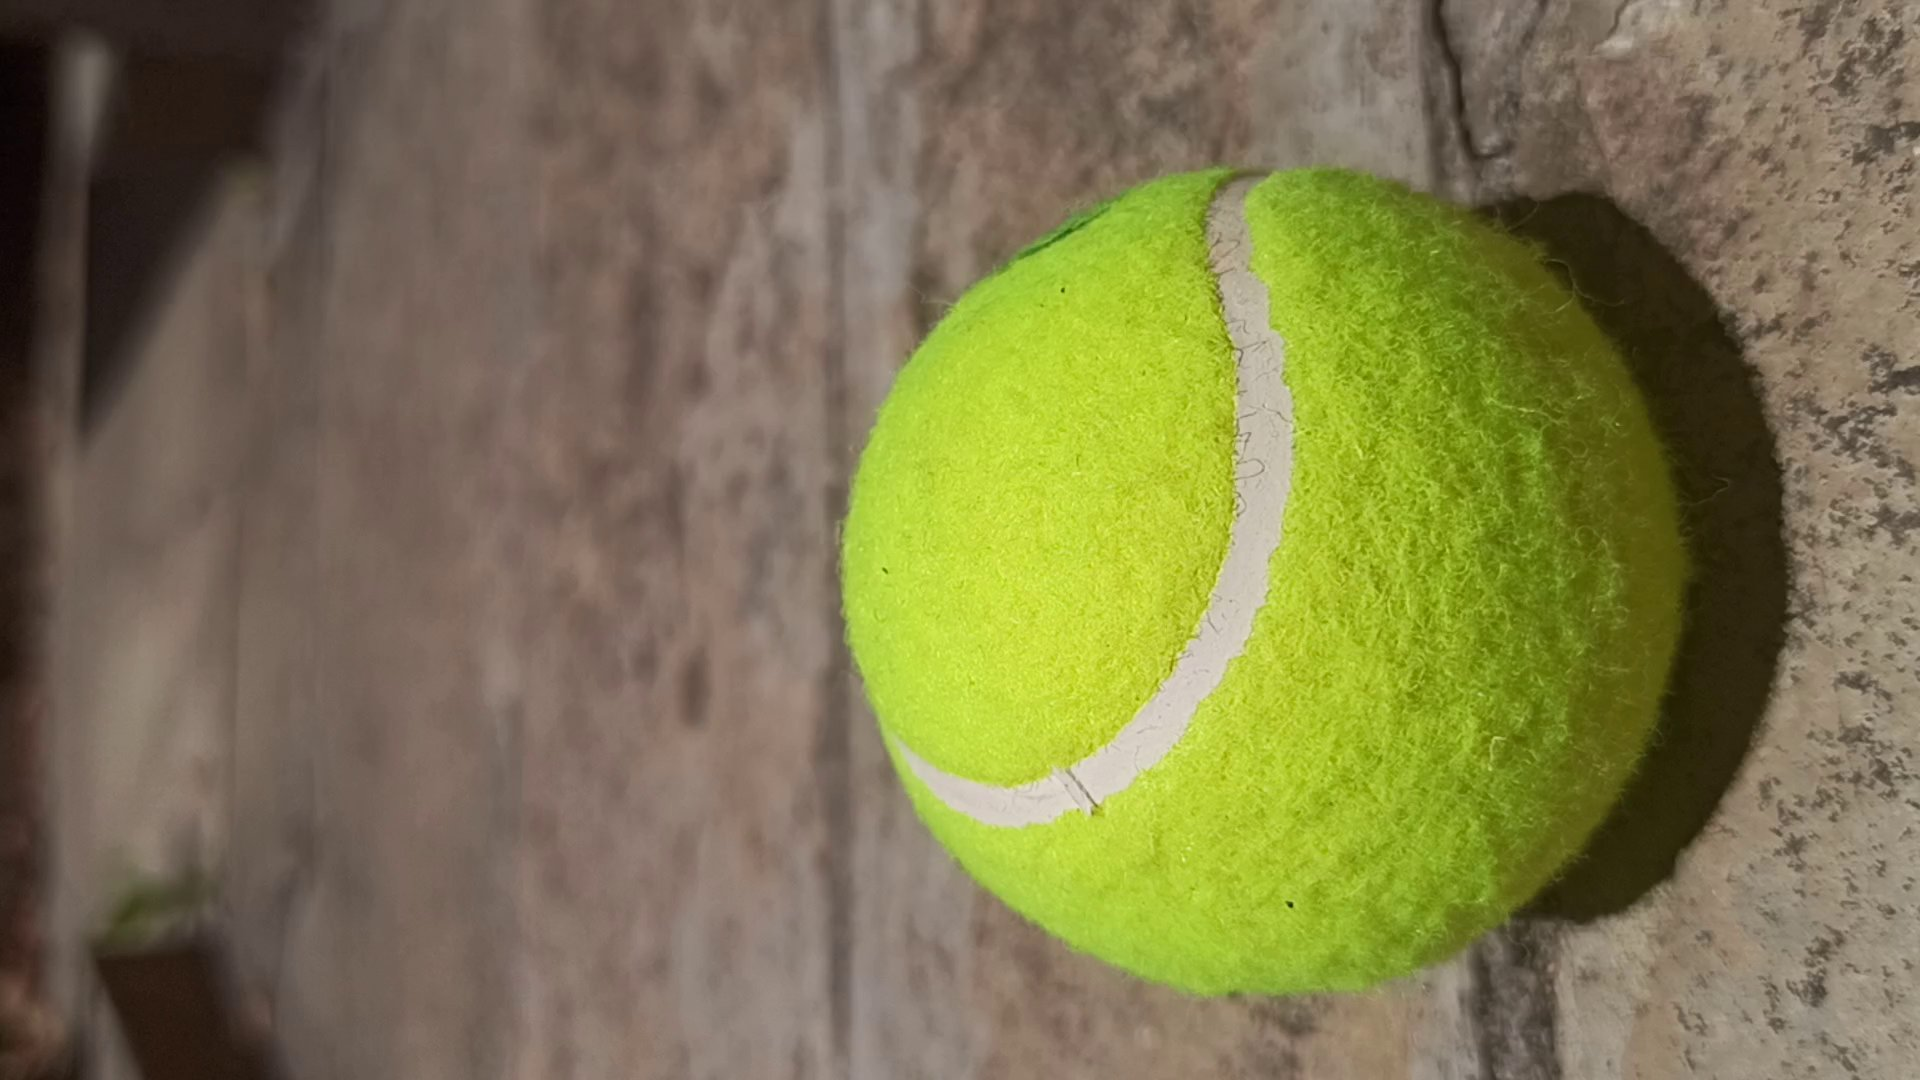Tennis-Ball: (837, 167, 1687, 1000)
